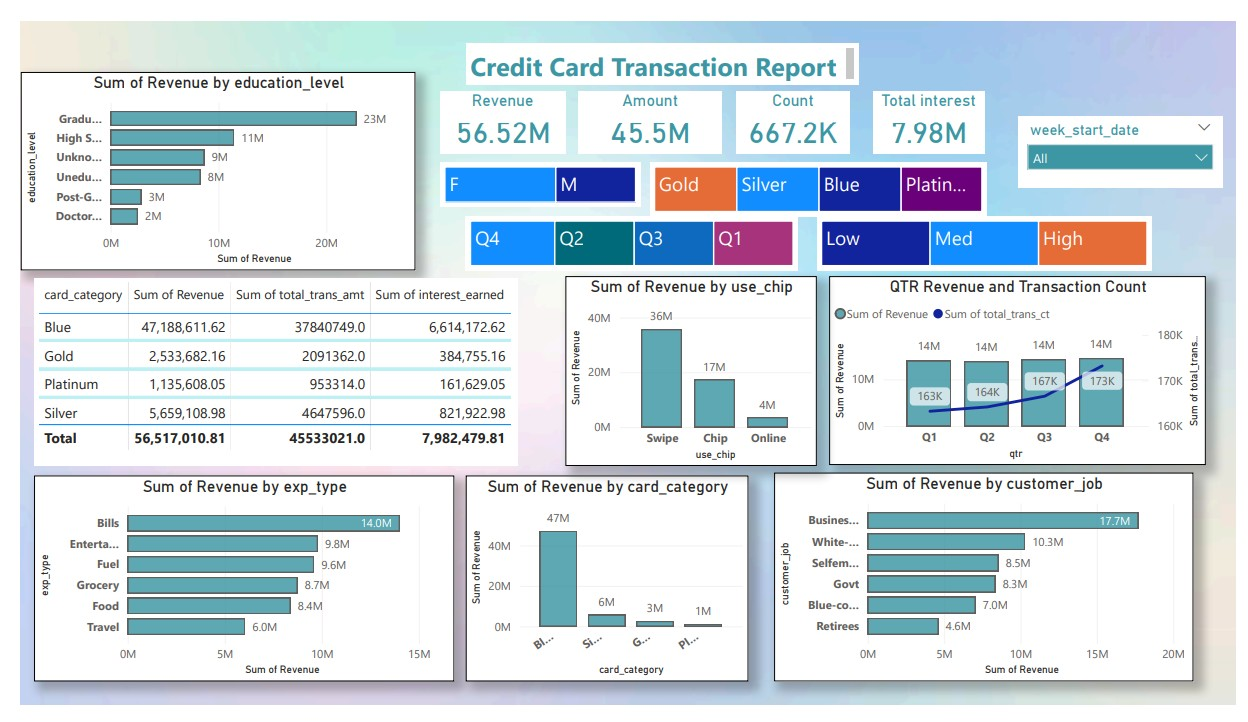

This screenshot's page, from the dashboard's own definition file:
{"tool":"powerbi","page":{"name":"cc_detail","canvas":[1280,720],"ordinal":1},"visuals":[{"type":"textbox","box":[468.9,23.3,414.4,43.3],"z":0},{"type":"lineStackedColumnComboChart","title":" QTR Revenue and Transaction Count","fields":{"Y":["Sum(public cc_detail.Revenue)"],"Category":["public cc_detail.qtr"],"Y2":["Sum(public cc_detail.total_trans_ct)"]},"box":[852.2,268.9,396.7,198.9],"z":1000},{"type":"clusteredBarChart","fields":{"Y":["Sum(public cc_detail.Revenue)"],"Category":["public cc_detail.exp_type"]},"box":[14.3,478.6,442.9,217.1],"z":2000},{"type":"clusteredBarChart","fields":{"Category":["public cust_detail.education_level"],"Y":["Sum(public cc_detail.Revenue)"]},"box":[0,52.9,415.7,210],"z":3000},{"type":"clusteredBarChart","fields":{"Y":["Sum(public cc_detail.Revenue)"],"Category":["public cust_detail.customer_job"]},"box":[794.3,475.7,441.4,220],"z":4000},{"type":"columnChart","fields":{"Y":["Sum(public cc_detail.Revenue)"],"Category":["public cc_detail.card_category"]},"box":[468.6,478.6,298.6,217.1],"z":5000},{"type":"columnChart","fields":{"Y":["Sum(public cc_detail.Revenue)"],"Category":["public cc_detail.use_chip"]},"box":[574.3,268.6,264.3,200],"z":6000},{"type":"tableEx","fields":{"Values":["public cc_detail.card_category","Sum(public cc_detail.Revenue)","Sum(public cc_detail.total_trans_amt)","Sum(public cc_detail.interest_earned)"]},"box":[14.3,271.4,510,197.1],"z":7000},{"type":"card","title":"Revenue","fields":{"Values":["Sum(public cc_detail.Revenue)"]},"box":[442.2,73.3,132.2,66.7],"z":8000},{"type":"card","title":"Total interest","fields":{"Values":["Sum(public cc_detail.interest_earned)"]},"box":[897.8,73.3,117.8,66.7],"z":9000},{"type":"card","title":"Amount","fields":{"Values":["Sum(public cc_detail.total_trans_amt)"]},"box":[587.8,73.3,151.1,66.7],"z":10000},{"type":"card","title":"Count","fields":{"Values":["Sum(public cc_detail.total_trans_ct)"]},"box":[754.4,73.3,120,66.7],"z":11000},{"type":"slicer","fields":{"Values":["public cc_detail.week_start_date"]},"box":[1051.4,100,215.7,75.7],"z":12000},{"type":"treemap","fields":{"Group":["public cc_detail.qtr"],"Values":["CountNonNull(public cc_detail.client_num)"]},"box":[468.9,205.6,350,57.8],"z":13000},{"type":"treemap","fields":{"Group":["public cust_detail.gender","public cc_detail.qtr"],"Values":["CountNonNull(public cc_detail.client_num)"]},"box":[442.2,148.9,211.1,46.7],"z":14000},{"type":"treemap","fields":{"Group":["public cc_detail.card_category"],"Values":["Avg(public cc_detail.client_num)"]},"box":[663.3,148.9,354.4,56.7],"z":15000},{"type":"treemap","fields":{"Values":["Avg(public cc_detail.client_num)"],"Group":["public cust_detail.IncomeGroup"]},"box":[838.9,205.6,353.3,57.8],"z":16000}]}

Visuals, with their boxes in screenshot pixels (x1, y1, x2, y2), scaled from the page's 1280x720 canvas onto the 1248x722 screenshot:
textbox: detection(457, 23, 861, 67)
" QTR Revenue and Transaction Count" lineStackedColumnComboChart: detection(831, 270, 1218, 469)
clusteredBarChart - Sum(public cc_detail.Revenue) x public cc_detail.exp_type: detection(14, 480, 446, 698)
clusteredBarChart - public cust_detail.education_level x Sum(public cc_detail.Revenue): detection(0, 53, 405, 264)
clusteredBarChart - Sum(public cc_detail.Revenue) x public cust_detail.customer_job: detection(774, 477, 1205, 698)
columnChart - Sum(public cc_detail.Revenue) x public cc_detail.card_category: detection(457, 480, 748, 698)
columnChart - Sum(public cc_detail.Revenue) x public cc_detail.use_chip: detection(560, 269, 818, 470)
tableEx - public cc_detail.card_category x Sum(public cc_detail.Revenue): detection(14, 272, 511, 470)
"Revenue" card: detection(431, 74, 560, 140)
"Total interest" card: detection(875, 74, 990, 140)
"Amount" card: detection(573, 74, 720, 140)
"Count" card: detection(736, 74, 853, 140)
slicer - public cc_detail.week_start_date: detection(1025, 100, 1235, 176)
treemap - public cc_detail.qtr x CountNonNull(public cc_detail.client_num): detection(457, 206, 798, 264)
treemap - public cust_detail.gender x public cc_detail.qtr: detection(431, 149, 637, 196)
treemap - public cc_detail.card_category x Avg(public cc_detail.client_num): detection(647, 149, 992, 206)
treemap - Avg(public cc_detail.client_num) x public cust_detail.IncomeGroup: detection(818, 206, 1162, 264)
